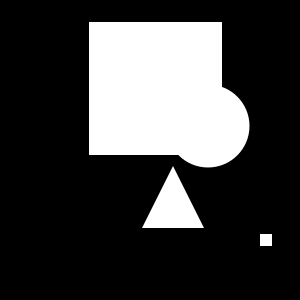circle: (89, 22, 222, 155), (260, 234, 272, 246)
rectangle: (167, 84, 250, 168)
triangle: (142, 166, 204, 228)
